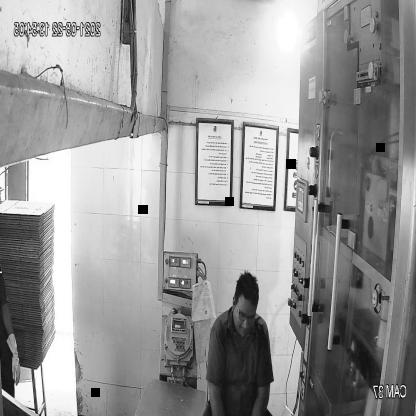goggles: (233, 300, 258, 327)
